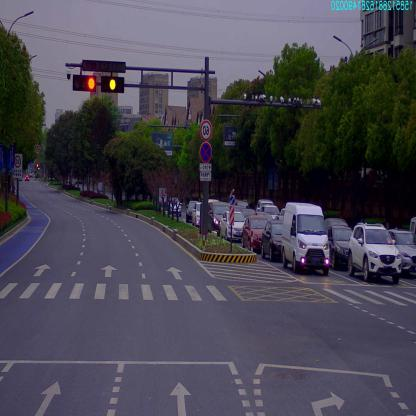traffic-light: (103, 74, 125, 93), (72, 77, 97, 92)
